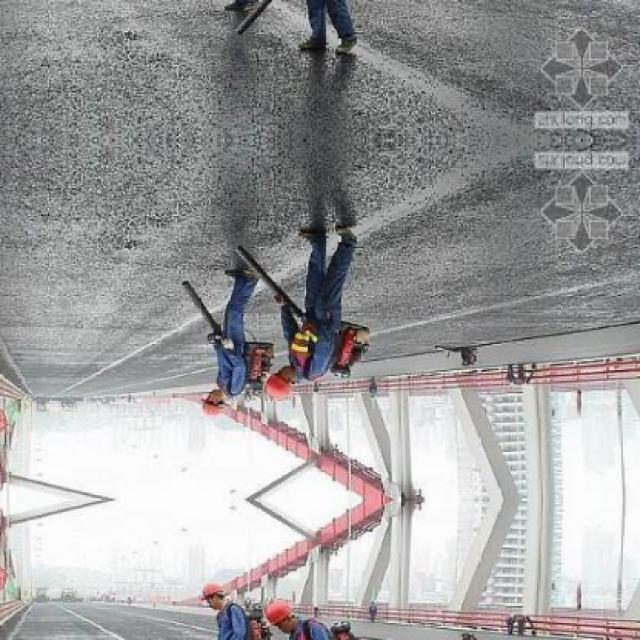con casco: (260, 348, 312, 410), (181, 374, 244, 422)
